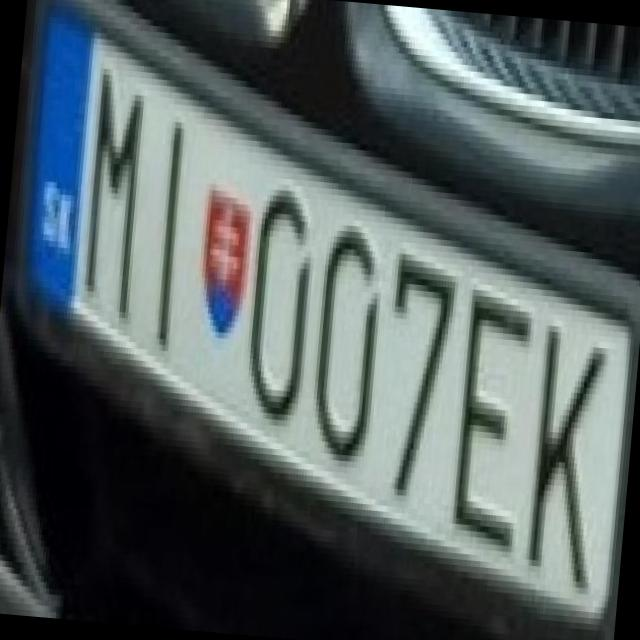0: (226, 169, 326, 428), (293, 204, 391, 463)
1: (122, 95, 198, 346)
7: (364, 234, 464, 499)
E: (432, 264, 542, 552)
K: (505, 306, 618, 588)
M: (66, 49, 160, 318)
